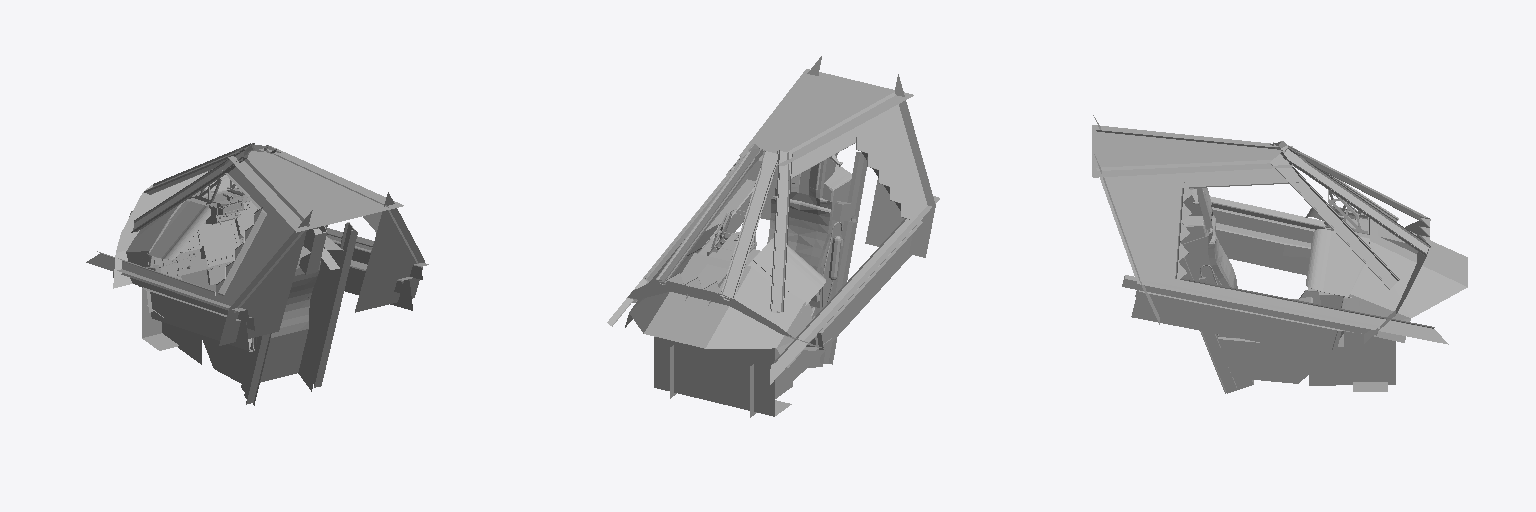
File: Interior_.obj
The picture shows the model from 3 angles: view 1: azimuth 30°, elevation 25°; view 2: azimuth 150°, elevation 25°; view 3: azimuth 270°, elevation 25°; orthographic projection.
Parts seen in each view (by area): view 1: DrawCall_0162, DrawCall_0161, DrawCall_0165, DrawCall_0164, DrawCall_0163, DrawCall_0187; view 2: DrawCall_0162, DrawCall_0165, DrawCall_0164, DrawCall_0161; view 3: DrawCall_0162, DrawCall_0165, DrawCall_0161, DrawCall_0164.
Part boxes in pixels (x1,y1,x2,y2): DrawCall_0162: (86, 143, 428, 364); DrawCall_0161: (202, 222, 357, 405); DrawCall_0165: (113, 177, 412, 350); DrawCall_0164: (113, 171, 237, 350); DrawCall_0163: (155, 195, 258, 279); DrawCall_0187: (184, 204, 256, 252); DrawCall_0162: (607, 56, 939, 417); DrawCall_0165: (625, 209, 912, 367); DrawCall_0164: (627, 224, 823, 416); DrawCall_0161: (767, 152, 866, 380); DrawCall_0162: (1092, 115, 1448, 385); DrawCall_0165: (1131, 190, 1467, 356); DrawCall_0161: (1179, 188, 1320, 393); DrawCall_0164: (1306, 208, 1429, 391).
Bounding box in the file's own units: 1.34 × 1.56 × 2.15.